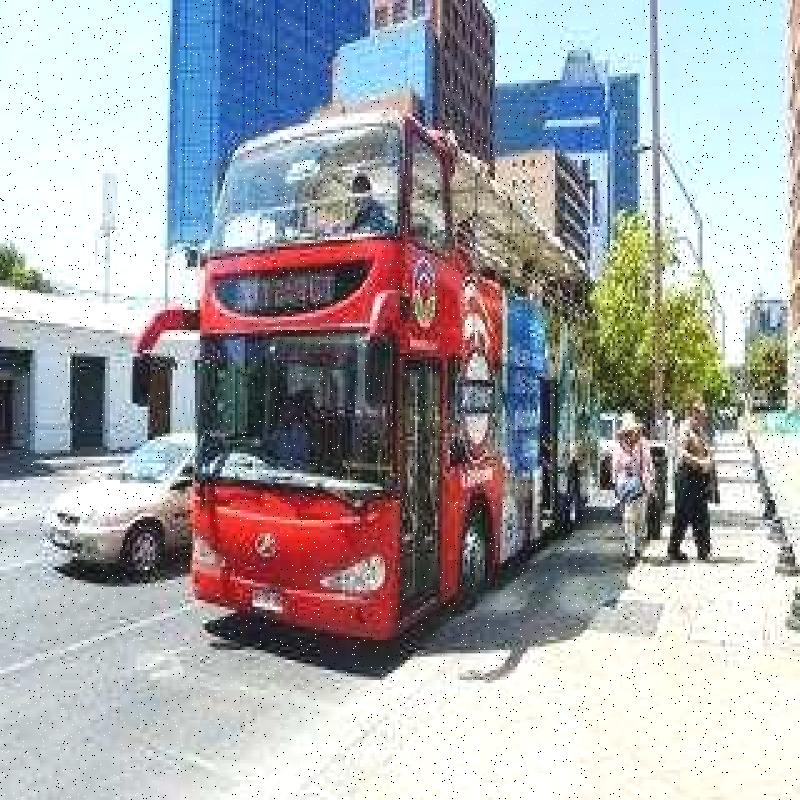bus: (177, 90, 587, 668)
